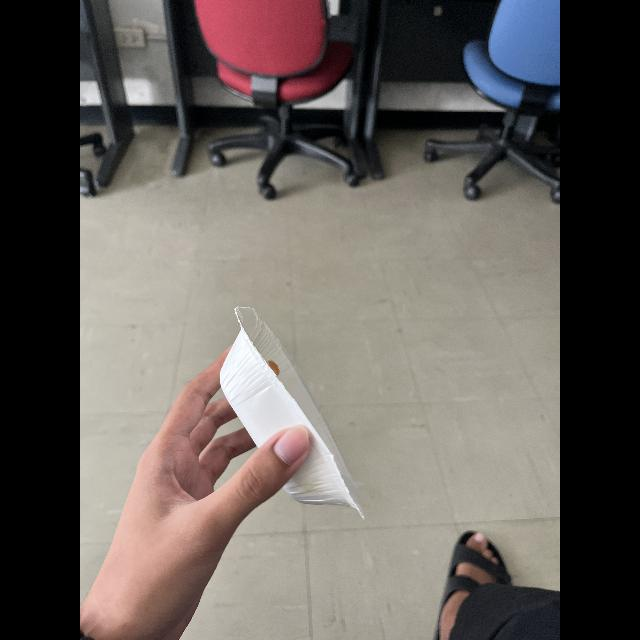cardboard_bowl: (210, 303, 370, 525)
